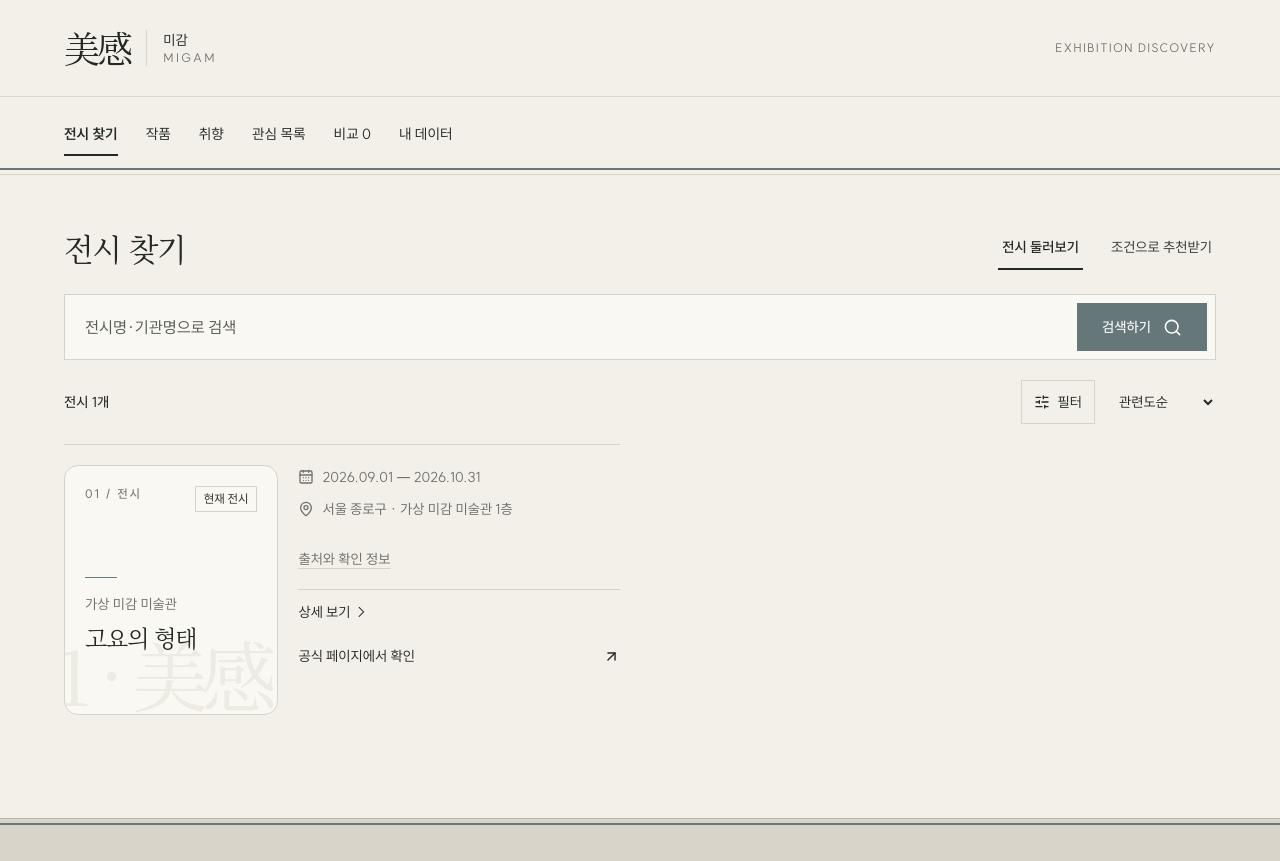
Scenario: discovery user flows › displays honest zero results and keeps a required safety checkbox
Click the tab "조건으로 추천받기" at (1161, 248), box [1107, 226, 1216, 270]
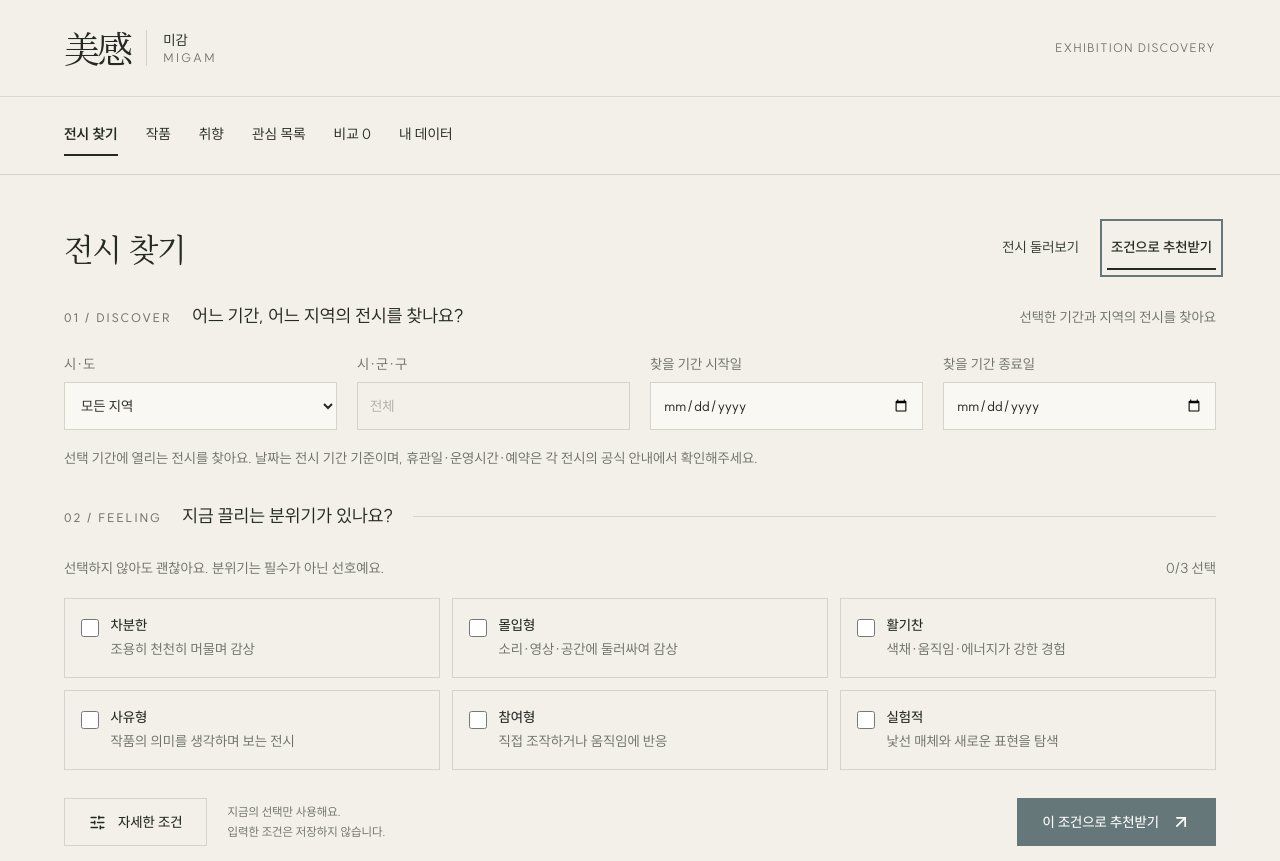
Click the button "자세한 조건" at (136, 822), box [64, 798, 207, 846]
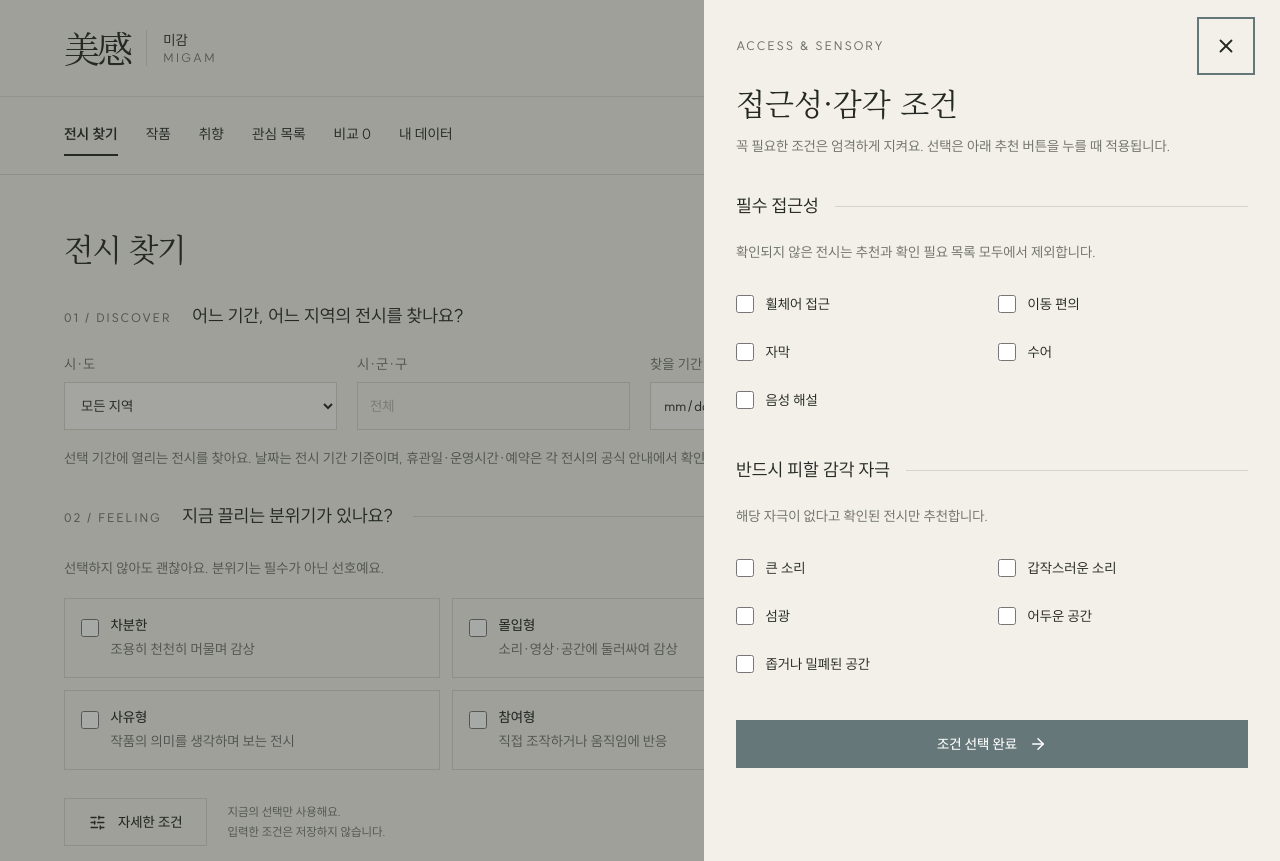
Click the checkbox labelled "섬광" at (745, 616), box [736, 607, 754, 625]
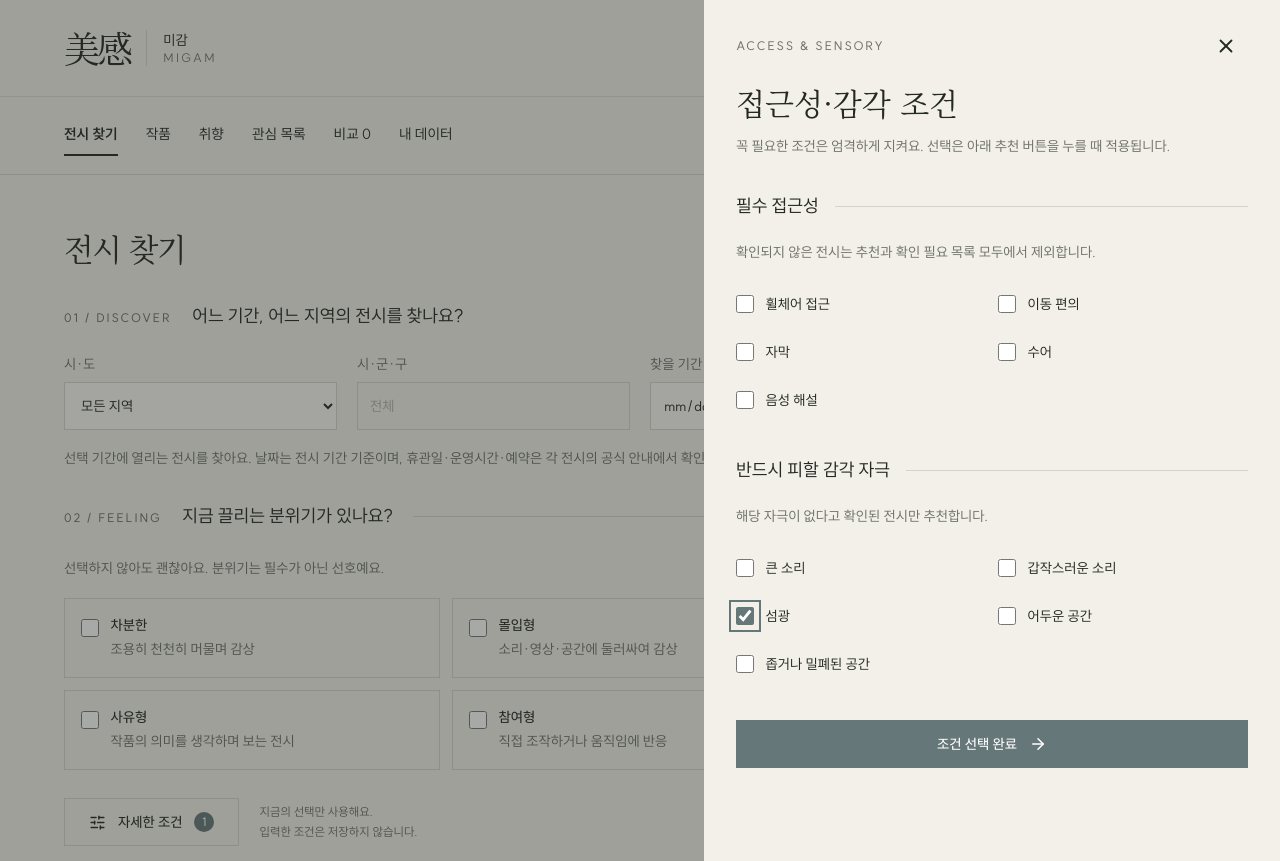
Press Escape
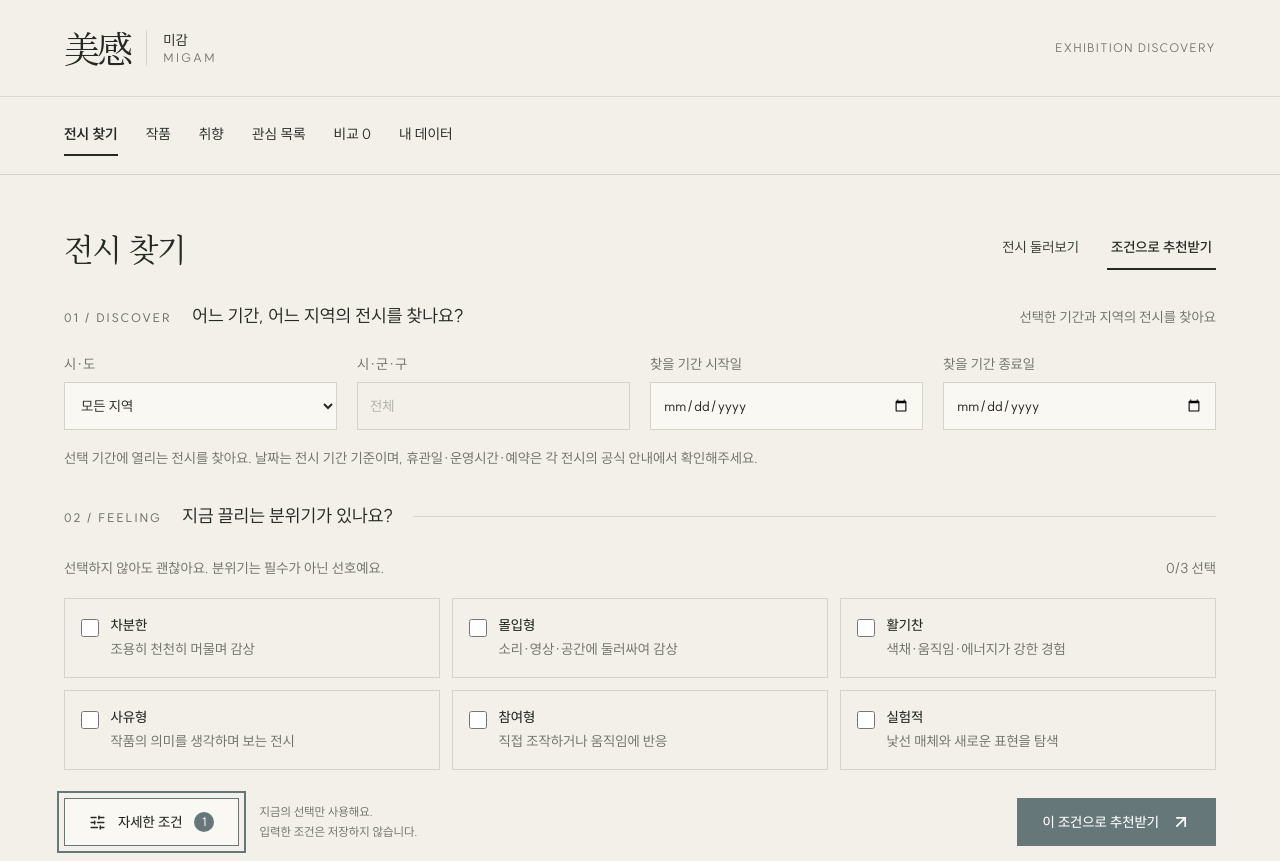
Click the button "이 조건으로 추천받기" at (1117, 822), box [1017, 798, 1216, 846]
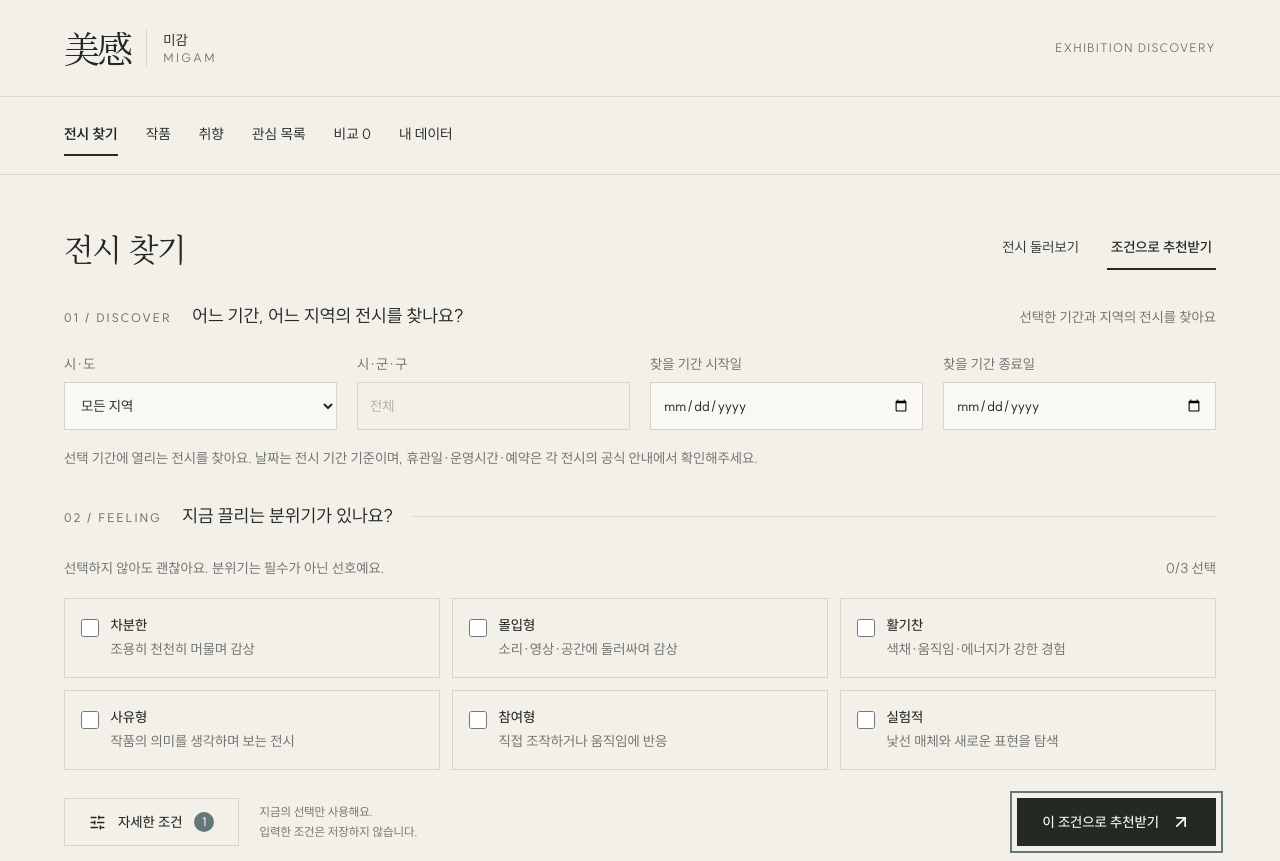
Click the button "자세한 조건 1" at (152, 822), box [64, 798, 239, 846]
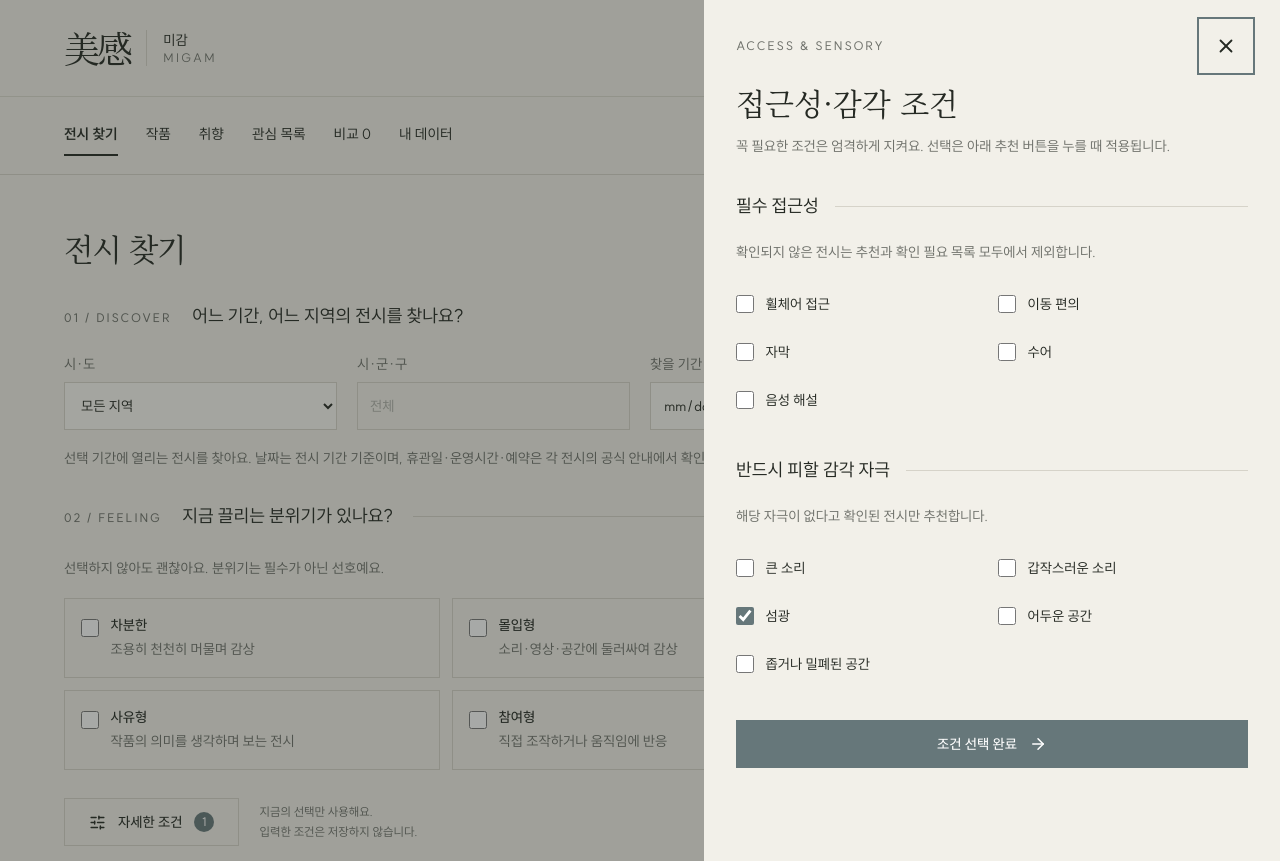
Check: the checkbox labelled "섬광" is checked, box [736, 607, 754, 625]
